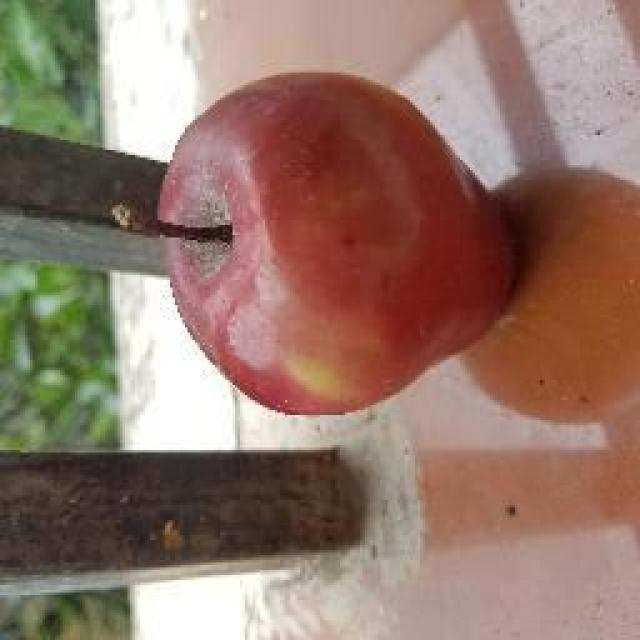Good_Apple: (102, 74, 514, 414)
